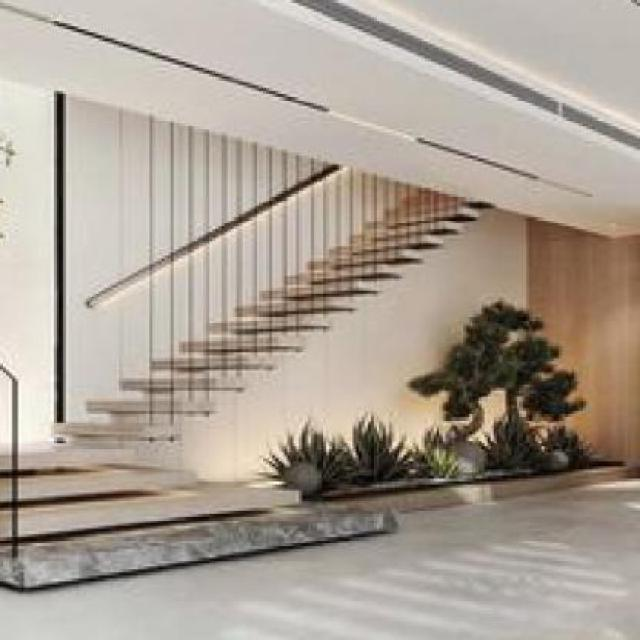stair: (1, 440, 418, 546)
